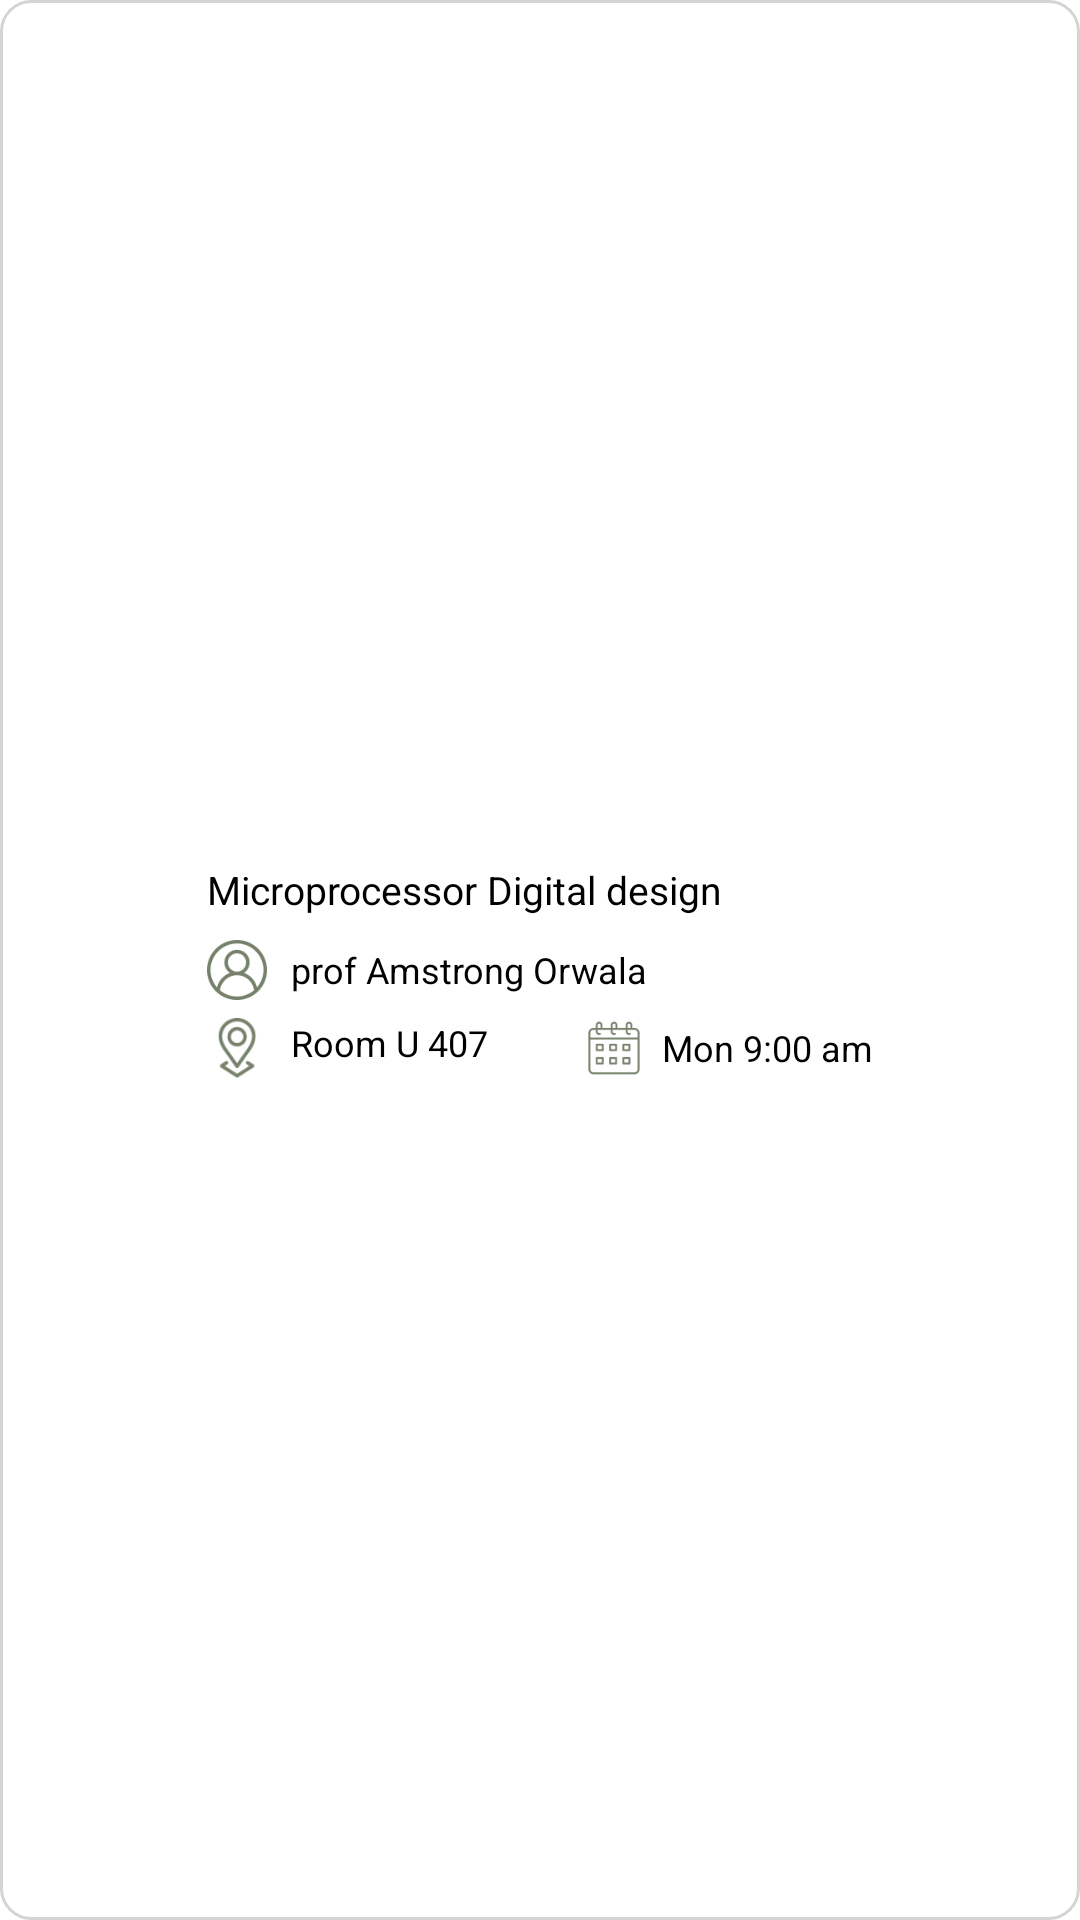

Named icons in this screenshot (1080px x 1920px) and their centers, (x,y):
calendar: (614,1048)
location: (237,1048)
user: (237,970)
